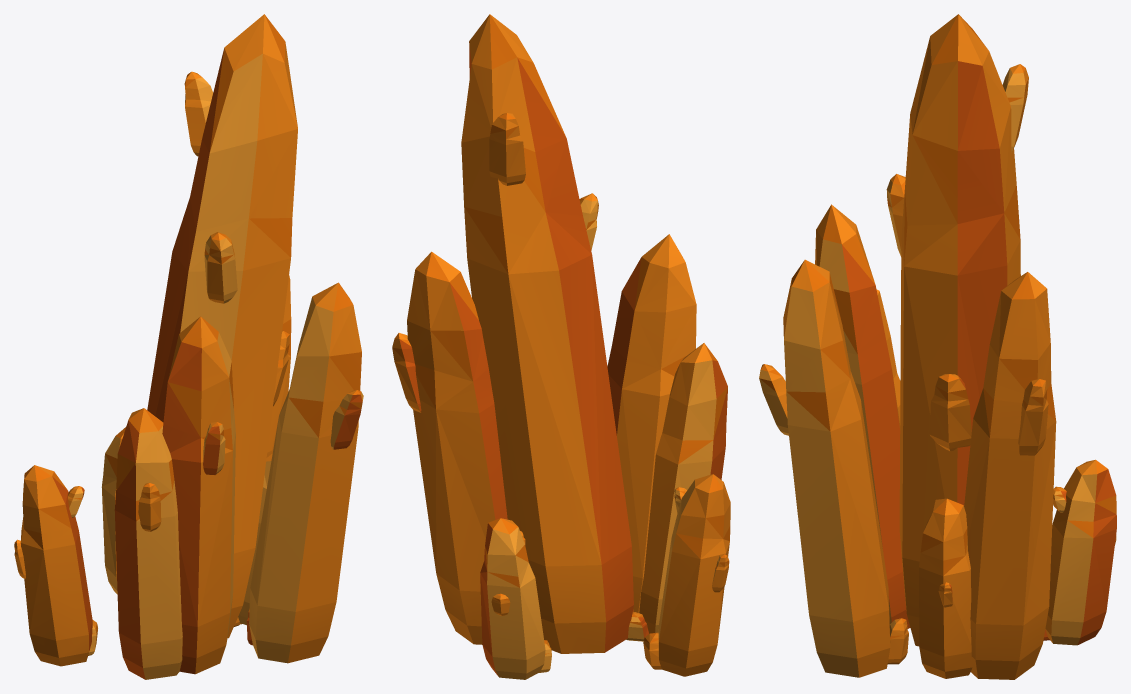
File: amber-crown.glb
3 renders of one model, left to right at view 1: azimuth 30°, elevation 25°; view 2: azimuth 150°, elevation 25°; view 3: azimuth 270°, elevation 25°, orthographic. The views are drawn at different scales.
Visible parts, largest first — view 1: amber-crown grown prism 00, amber-crown grown prism 04, amber-crown grown prism 07, amber-crown grown prism 02, amber-crown grown prism 05, amber-crown attached growth 00-01, amber-crown grown prism 03, amber-crown attached growth 00-02, amber-crown attached growth 04-00, amber-crown grown prism 06, amber-crown attached growth 07-00, amber-crown attached growth 02-00 (+2 smaller); view 2: amber-crown grown prism 00, amber-crown grown prism 06, amber-crown grown prism 07, amber-crown grown prism 02, amber-crown grown prism 05, amber-crown grown prism 03, amber-crown attached growth 00-02, amber-crown attached growth 06-00, amber-crown attached growth 00-01; view 3: amber-crown grown prism 00, amber-crown grown prism 04, amber-crown grown prism 06, amber-crown grown prism 07, amber-crown grown prism 03, amber-crown grown prism 01, amber-crown attached growth 00-00, amber-crown attached growth 06-00, amber-crown attached growth 04-00, amber-crown attached growth 00-02, amber-crown attached growth 00-01, amber-crown root crust 03 (+1 smaller).
Boxes of the visible parts, x1=… form: amber-crown grown prism 00: x1=147, y1=14, x2=297, y2=638; amber-crown grown prism 04: x1=249, y1=282, x2=361, y2=663; amber-crown grown prism 07: x1=162, y1=316, x2=235, y2=674; amber-crown grown prism 02: x1=114, y1=408, x2=182, y2=679; amber-crown grown prism 05: x1=20, y1=465, x2=92, y2=666; amber-crown attached growth 00-01: x1=204, y1=232, x2=237, y2=303; amber-crown grown prism 03: x1=101, y1=427, x2=125, y2=594; amber-crown attached growth 00-02: x1=184, y1=71, x2=212, y2=156; amber-crown attached growth 04-00: x1=330, y1=390, x2=363, y2=449; amber-crown grown prism 06: x1=267, y1=275, x2=291, y2=452; amber-crown attached growth 07-00: x1=203, y1=422, x2=225, y2=474; amber-crown attached growth 02-00: x1=138, y1=483, x2=161, y2=531; amber-crown grown prism 00: x1=461, y1=14, x2=633, y2=653; amber-crown grown prism 06: x1=407, y1=251, x2=507, y2=644; amber-crown grown prism 07: x1=607, y1=234, x2=696, y2=612; amber-crown grown prism 02: x1=639, y1=343, x2=727, y2=633; amber-crown grown prism 05: x1=658, y1=474, x2=730, y2=676; amber-crown grown prism 03: x1=480, y1=518, x2=545, y2=679; amber-crown attached growth 00-02: x1=489, y1=113, x2=525, y2=185; amber-crown attached growth 06-00: x1=392, y1=333, x2=421, y2=412; amber-crown attached growth 00-01: x1=579, y1=193, x2=598, y2=250; amber-crown grown prism 00: x1=899, y1=14, x2=1020, y2=646; amber-crown grown prism 04: x1=783, y1=259, x2=890, y2=677; amber-crown grown prism 06: x1=964, y1=272, x2=1056, y2=679; amber-crown grown prism 07: x1=815, y1=204, x2=910, y2=628; amber-crown grown prism 03: x1=1045, y1=459, x2=1116, y2=645; amber-crown grown prism 01: x1=919, y1=498, x2=972, y2=678; amber-crown attached growth 00-00: x1=929, y1=374, x2=971, y2=451; amber-crown attached growth 06-00: x1=1018, y1=379, x2=1048, y2=455; amber-crown attached growth 04-00: x1=759, y1=364, x2=788, y2=435; amber-crown attached growth 00-02: x1=1002, y1=64, x2=1028, y2=152; amber-crown attached growth 00-01: x1=886, y1=174, x2=905, y2=256; amber-crown root crust 03: x1=887, y1=618, x2=908, y2=664.
Bounding box in the file's own units: 2.38 × 4.54 × 2.21.
